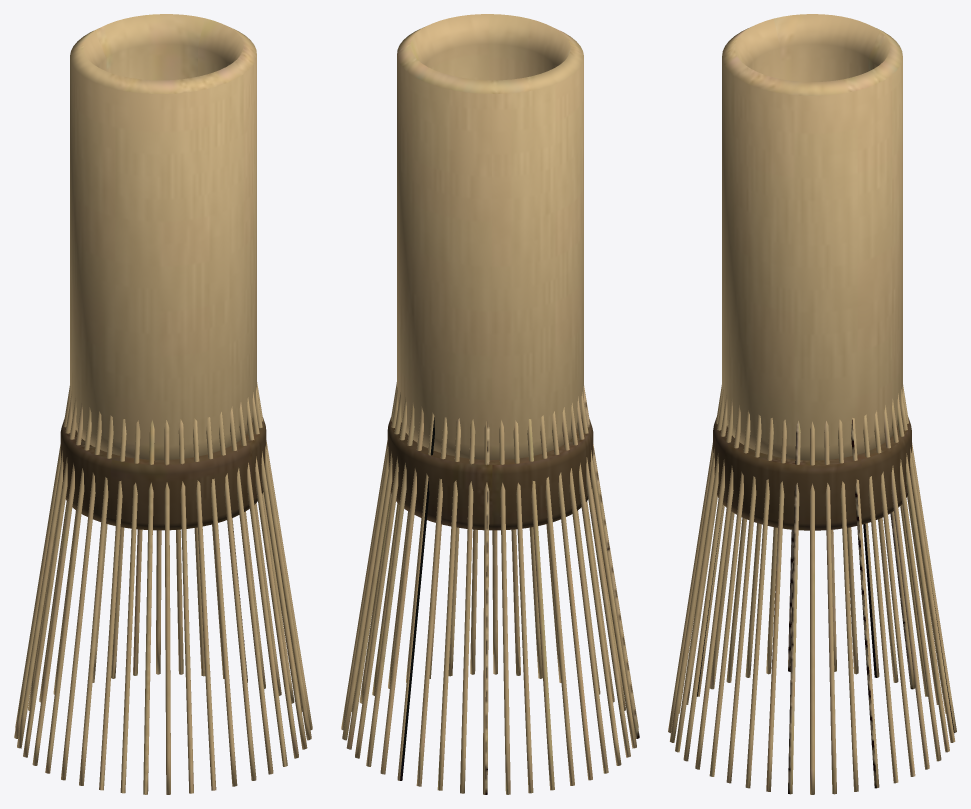
3 renders of one model, left to right at view 1: azimuth 30°, elevation 25°; view 2: azimuth 150°, elevation 25°; view 3: azimuth 270°, elevation 25°, orthographic.
Parts seen in each view (by area): view 1: body; view 2: body; view 3: body.
Boxes of the visible parts, <box> form: body: <box>14,14,312,794</box>; body: <box>341,14,639,794</box>; body: <box>668,14,956,794</box>.
Bounding box in the file's own units: 0.0476 × 0.1193 × 0.0456.
Materials: 2 (2 with a texture image).
